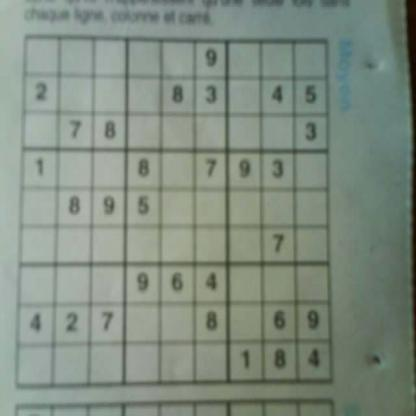sudoku: (12, 29, 337, 392)
